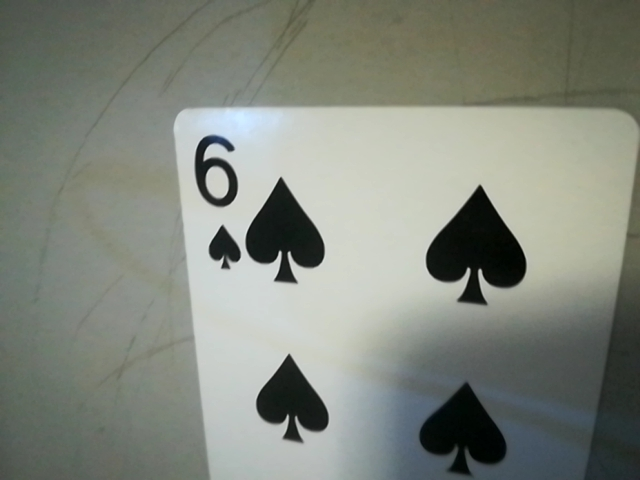ht 6: (182, 122, 249, 283)
